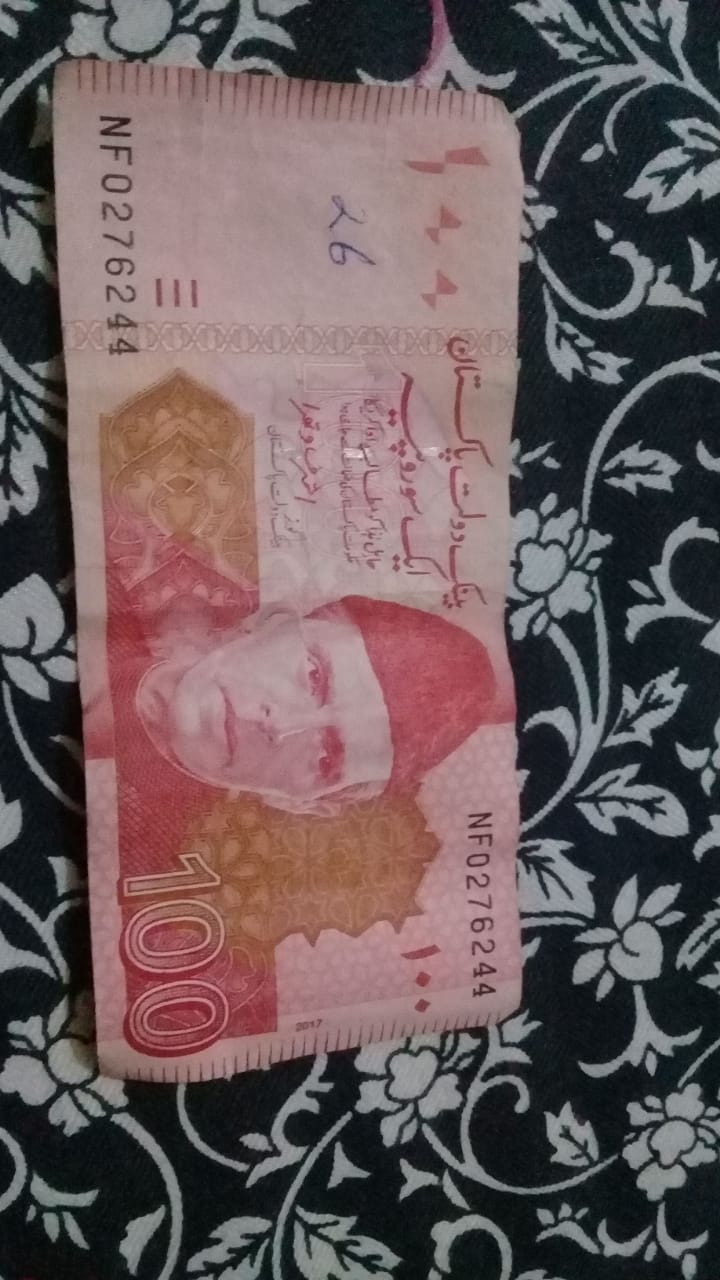100 rupee: (30, 63, 570, 1081)
